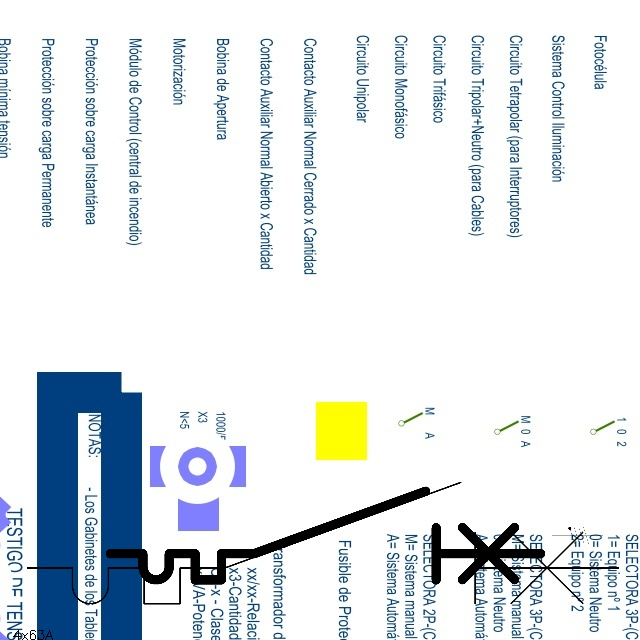interruptor_termomagnetico: (12, 467, 634, 619), (99, 480, 551, 591)
